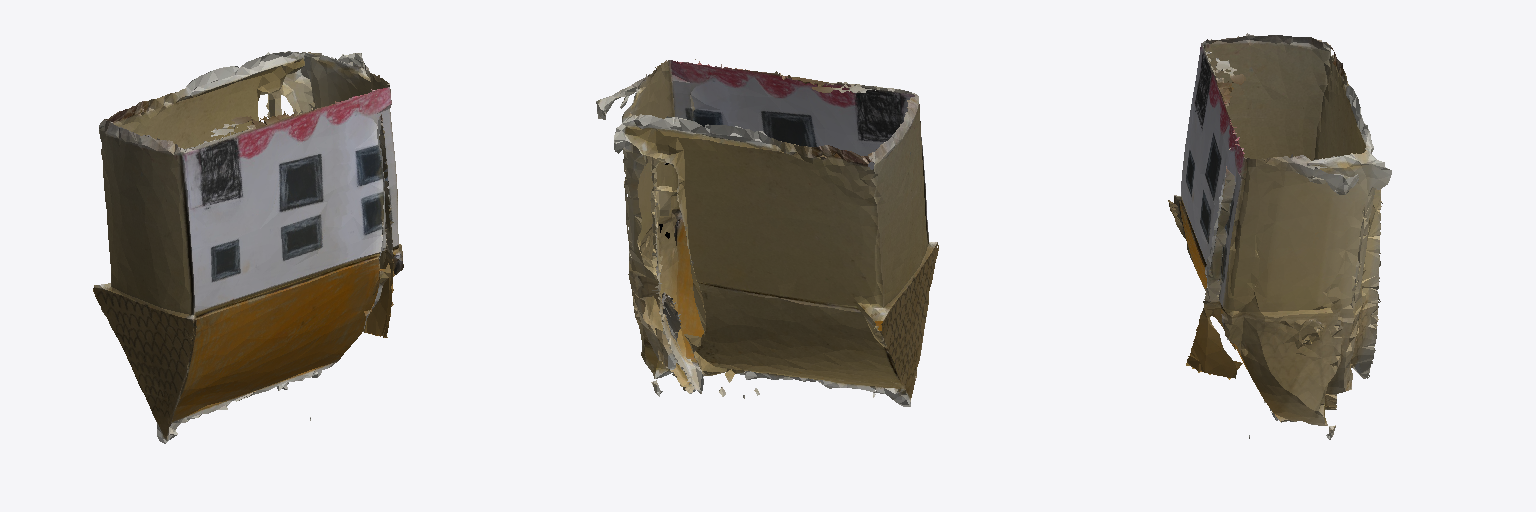
3 renders of one model, left to right at view 1: azimuth 30°, elevation 25°; view 2: azimuth 150°, elevation 25°; view 3: azimuth 270°, elevation 25°, orthographic.
Size of the model in its own units: 4.99 by 5.62 by 3.48.
Materials: 1 (1 with a texture image).